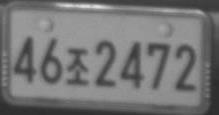2: (174, 43, 197, 92), (94, 40, 117, 88)
4: (119, 40, 145, 89), (12, 35, 38, 83)
6: (40, 36, 64, 84)
7: (147, 41, 171, 89)
조: (64, 47, 90, 86)
